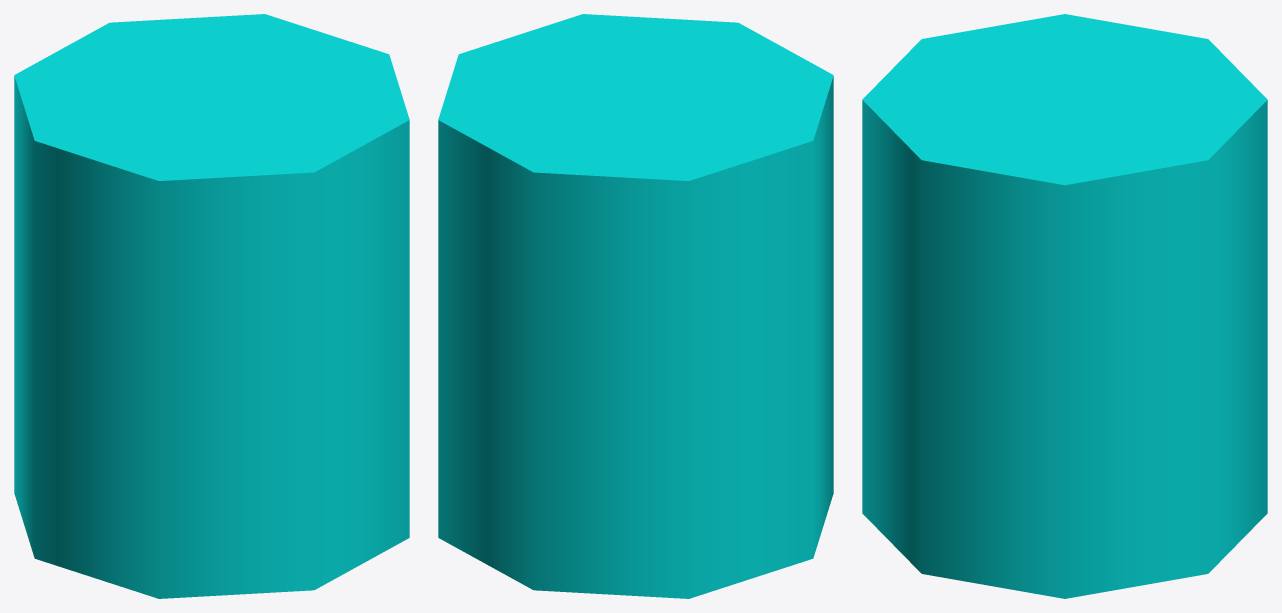
File: BigColbaWater.fbx
3 renders of one model, left to right at view 1: azimuth 30°, elevation 25°; view 2: azimuth 150°, elevation 25°; view 3: azimuth 270°, elevation 25°, orthographic.
Parts seen in each view (by area): view 1: BigColbaWater; view 2: BigColbaWater; view 3: BigColbaWater.
Boxes of the visible parts, x1=… form: BigColbaWater: x1=14, y1=14, x2=409, y2=598; BigColbaWater: x1=438, y1=14, x2=833, y2=598; BigColbaWater: x1=862, y1=14, x2=1267, y2=598.
Bounding box in the file's own units: 73.56 × 82.82 × 73.56.
